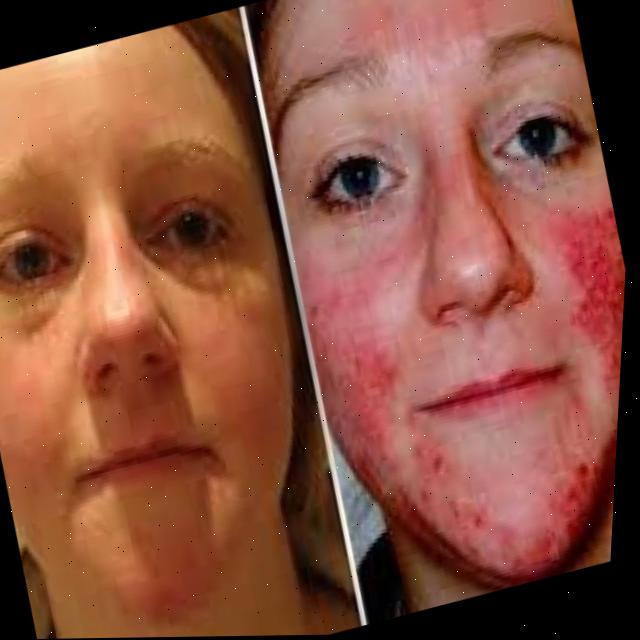Rosacea: (402, 463, 616, 609), (286, 259, 415, 467), (520, 194, 629, 425), (343, 0, 518, 85)
